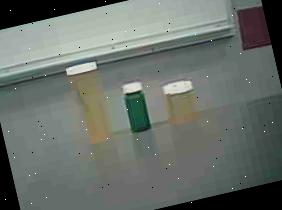Bottle A: (56, 51, 125, 152)
Bottle B: (157, 72, 206, 132)
Bottle C: (118, 76, 158, 136)
